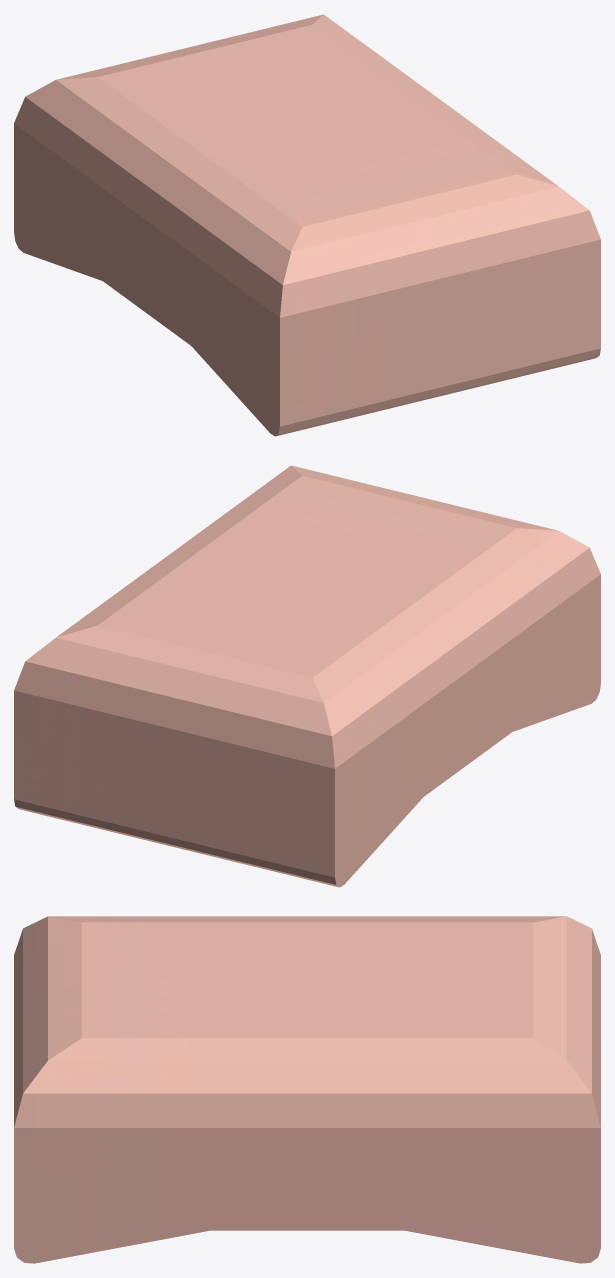
The model's file is Soap Bar (Should be on the Sink beside the Sink Head).fbx.
3 views of the same model, one above another, from view 1: azimuth 30°, elevation 25°; view 2: azimuth 150°, elevation 25°; view 3: azimuth 270°, elevation 25° (orthographic). The views are drawn at different scales.
Parts seen in each view (by area): view 1: Soap; view 2: Soap; view 3: Soap.
Part boxes in pixels (x1,y1,x2,y2): Soap: (14,14,600,436); Soap: (14,465,600,887); Soap: (14,916,600,1263).
Size of the model in its own units: 43.22 by 22.94 by 62.01.
